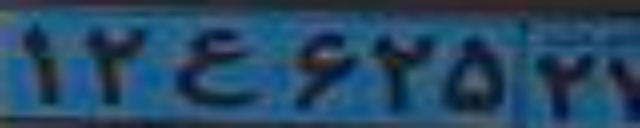1: (17, 23, 60, 104)
2: (85, 25, 147, 104), (375, 34, 431, 111), (538, 49, 594, 119)
5: (443, 35, 508, 108)
6: (288, 32, 359, 110)
7: (605, 55, 637, 122)
ain: (165, 27, 261, 104)
